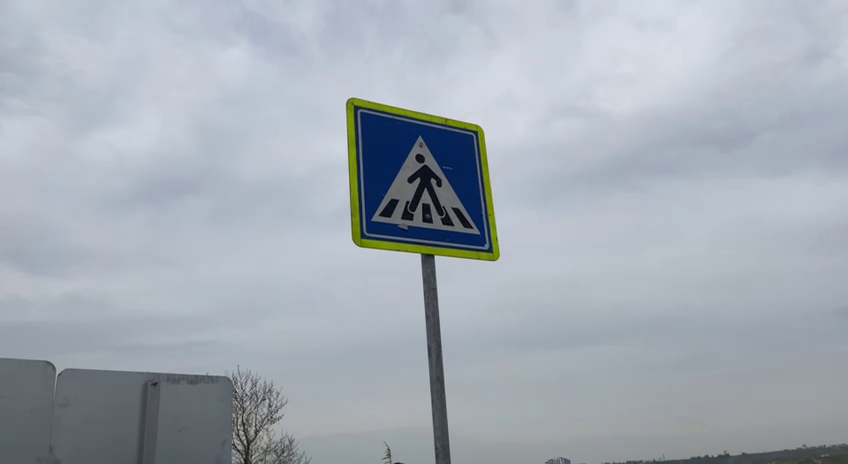pedestrianCrossing: (343, 94, 503, 265)
